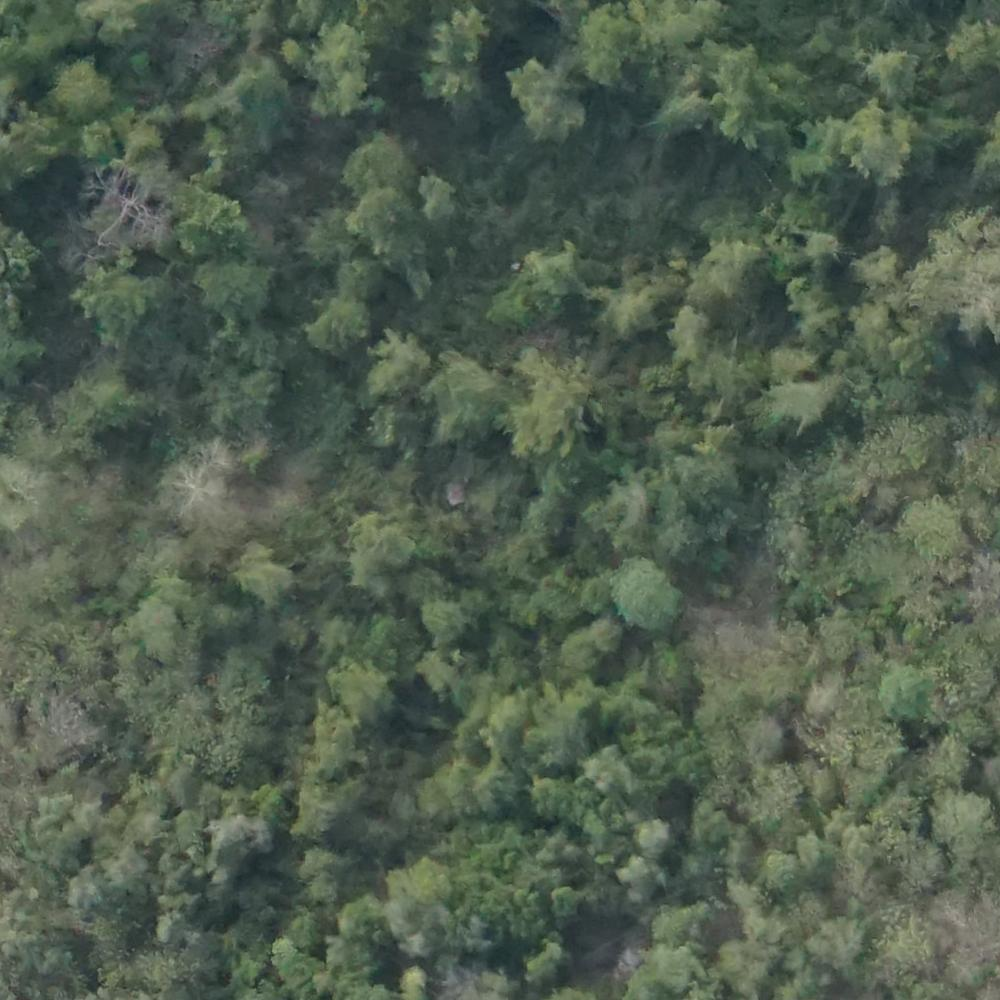tree: (504, 355, 601, 455), (128, 583, 204, 668), (338, 134, 411, 208), (69, 267, 152, 332), (510, 59, 578, 134), (383, 886, 454, 957), (614, 559, 689, 625), (573, 10, 648, 74), (897, 494, 964, 565), (168, 450, 229, 526), (345, 186, 419, 248), (844, 112, 914, 175), (201, 258, 272, 319), (1, 105, 61, 176), (325, 662, 390, 725), (358, 521, 412, 593), (363, 329, 427, 389), (522, 241, 581, 306), (863, 36, 925, 96), (931, 795, 989, 859), (315, 294, 373, 356), (710, 81, 772, 139), (234, 546, 291, 607), (37, 789, 94, 850), (705, 238, 759, 300), (818, 919, 875, 974), (733, 716, 789, 766), (664, 304, 707, 369), (205, 812, 262, 861), (437, 13, 495, 61), (60, 63, 111, 117), (798, 289, 844, 348), (301, 212, 354, 261), (426, 63, 480, 110), (322, 75, 377, 121), (426, 598, 473, 650), (883, 666, 930, 717), (587, 750, 644, 792), (101, 850, 154, 895), (522, 489, 570, 536), (951, 21, 1000, 67), (547, 458, 591, 508), (623, 851, 663, 905), (304, 848, 347, 898), (318, 20, 362, 67), (535, 568, 576, 617), (797, 828, 841, 872), (418, 168, 462, 211), (845, 828, 893, 866), (204, 738, 247, 779), (226, 654, 266, 697), (295, 795, 341, 830), (82, 121, 123, 160), (592, 615, 630, 657), (562, 630, 598, 672), (342, 254, 379, 294), (854, 298, 891, 336), (551, 882, 587, 917), (474, 763, 513, 793), (575, 576, 609, 610), (131, 118, 162, 151)
